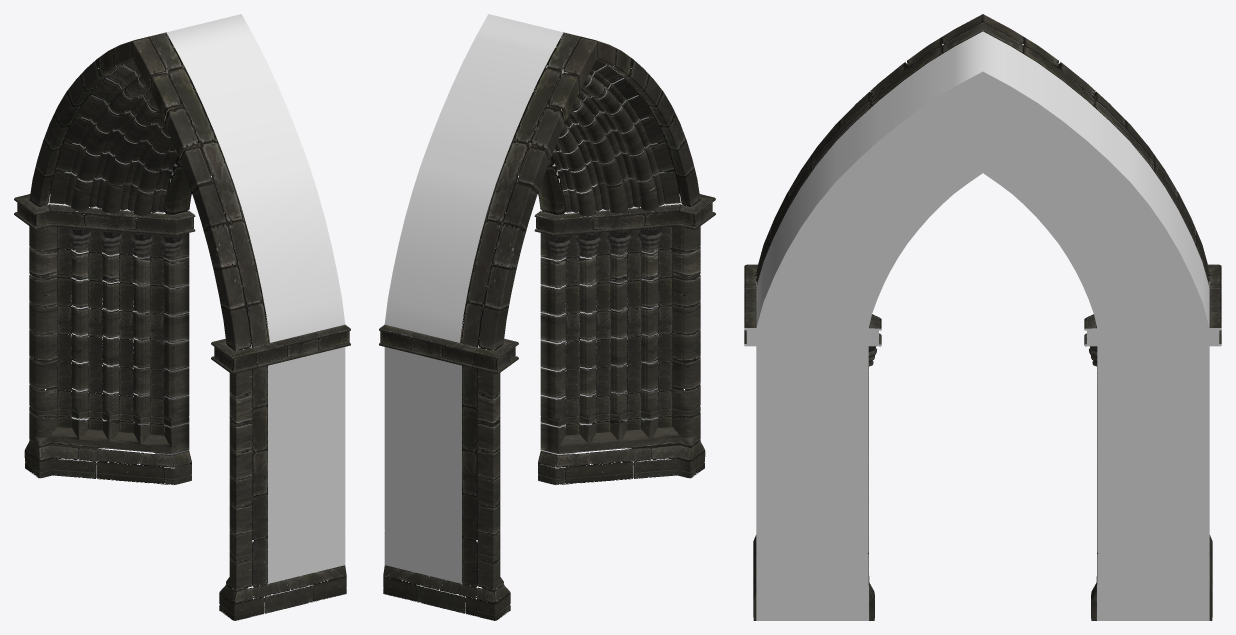
3 views of the same model, side by side, from view 1: azimuth 30°, elevation 25°; view 2: azimuth 150°, elevation 25°; view 3: azimuth 270°, elevation 25° (orthographic). The views are drawn at different scales.
Parts seen in each view (by area): view 1: SM_Greathall_Doorway_02_LOD0; view 2: SM_Greathall_Doorway_02_LOD0; view 3: SM_Greathall_Doorway_02_LOD0.
Boxes of the visible parts, x1,y1,x2,y2 form: SM_Greathall_Doorway_02_LOD0: (14,14,350,620); SM_Greathall_Doorway_02_LOD0: (379,14,715,620); SM_Greathall_Doorway_02_LOD0: (744,14,1221,620).
Bounding box in the file's own units: 2.56 × 10.33 × 8.13.
Materials: 4 (3 with a texture image).
